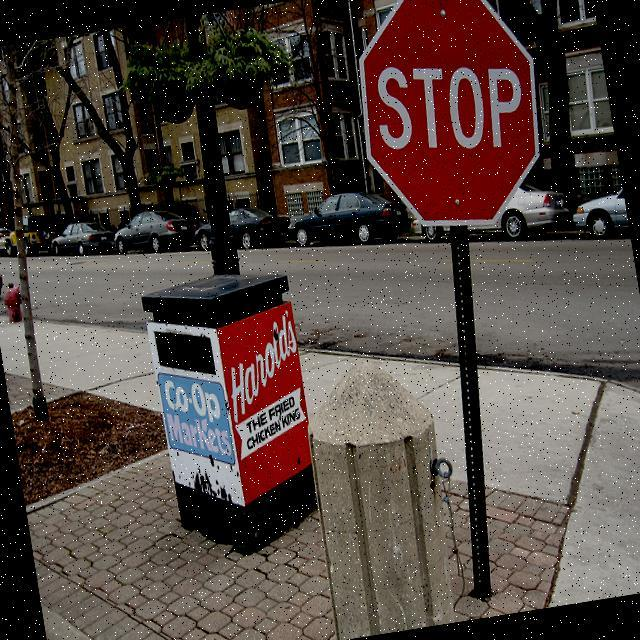fire_hydrant: (1, 280, 26, 324)
